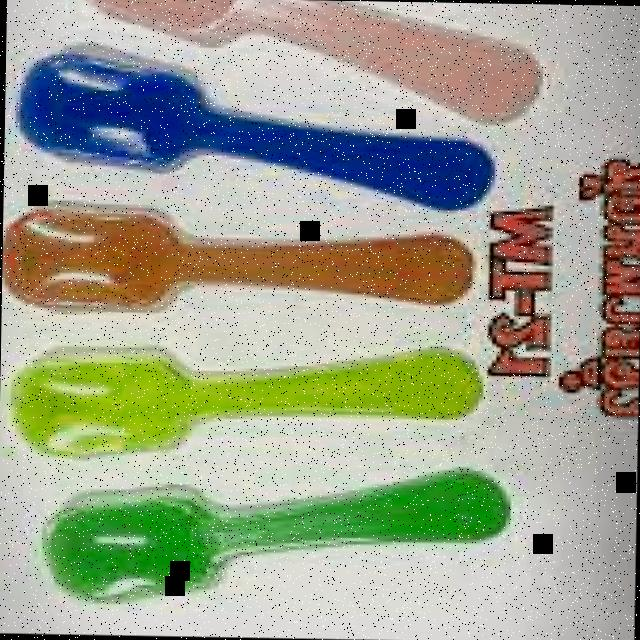plastic_spoon: (0, 0, 548, 621)
